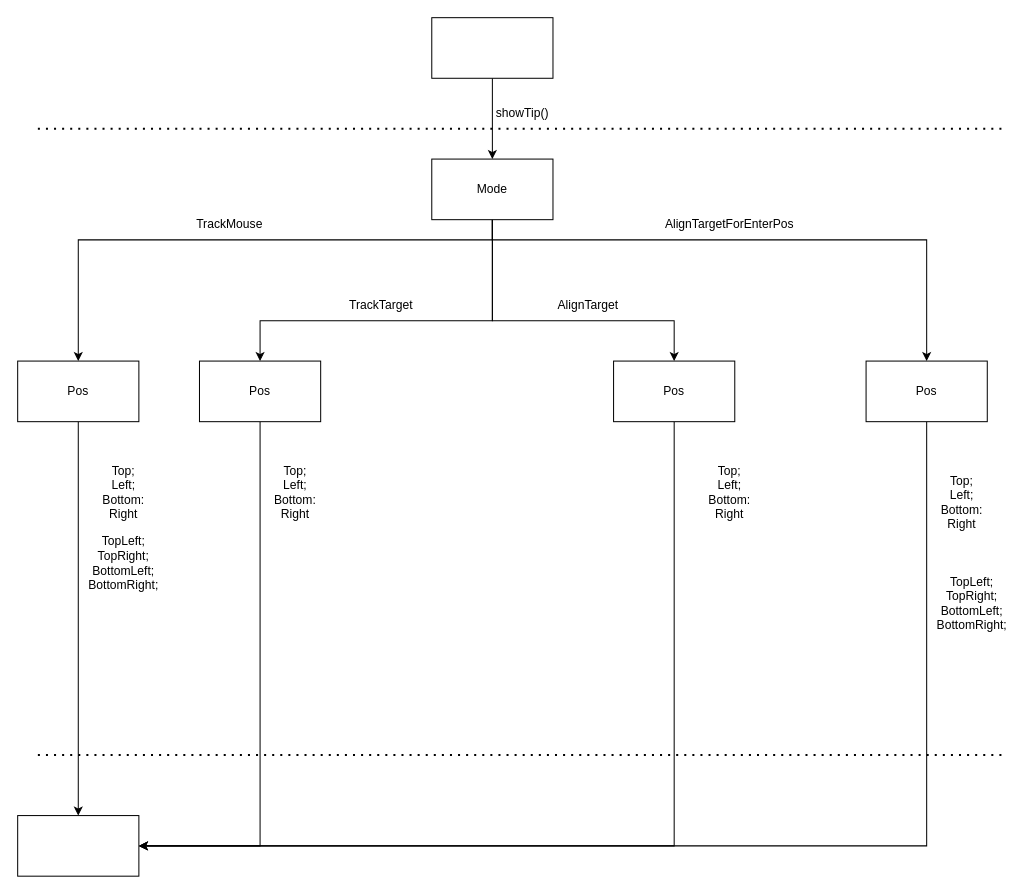
The diagram is 1035 pixels wide and 894 high, and some of its shapes have lost their labels. The centre of each missing label's shape, as x and y in pixels:
OtherWidget: pixel 492 47
QPoint(): pixel 78 845
